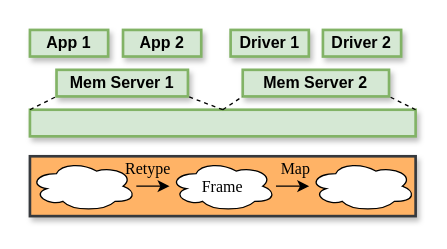
Image size: 447x249. Some labels were removed from this diagram. Here are the shapes that lost their labels. From the top down, the centre of each, then its label:
point (223, 124): Root Task
point (82, 185): Untyped
point (362, 185): VSpace
